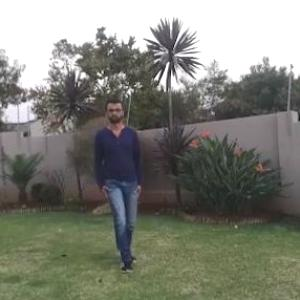follow: (98, 102, 144, 254)
